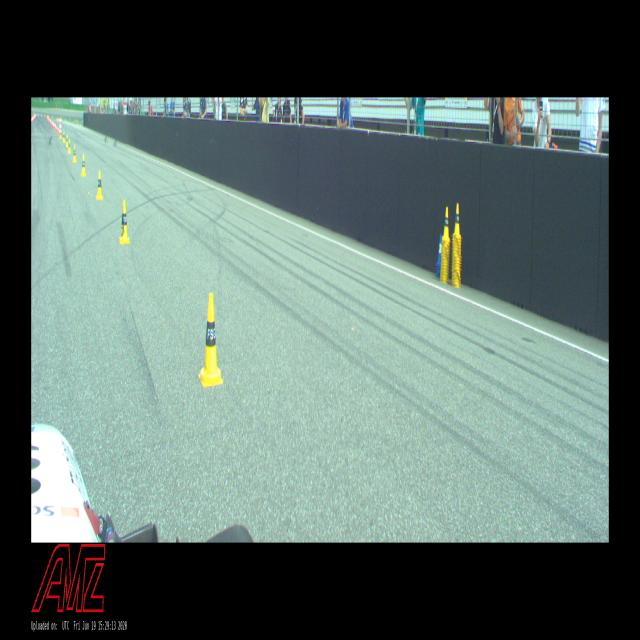blue_cone: (435, 234, 443, 267)
large_orange_cone: (58, 122, 62, 136)
orange_cone: (57, 125, 59, 134)
yellow_cone: (198, 292, 224, 389), (118, 199, 130, 245), (452, 202, 461, 238), (442, 206, 451, 241), (95, 170, 104, 200), (81, 153, 86, 177), (73, 144, 77, 162), (68, 138, 72, 154), (66, 134, 68, 148), (63, 130, 65, 143), (60, 128, 62, 139)
